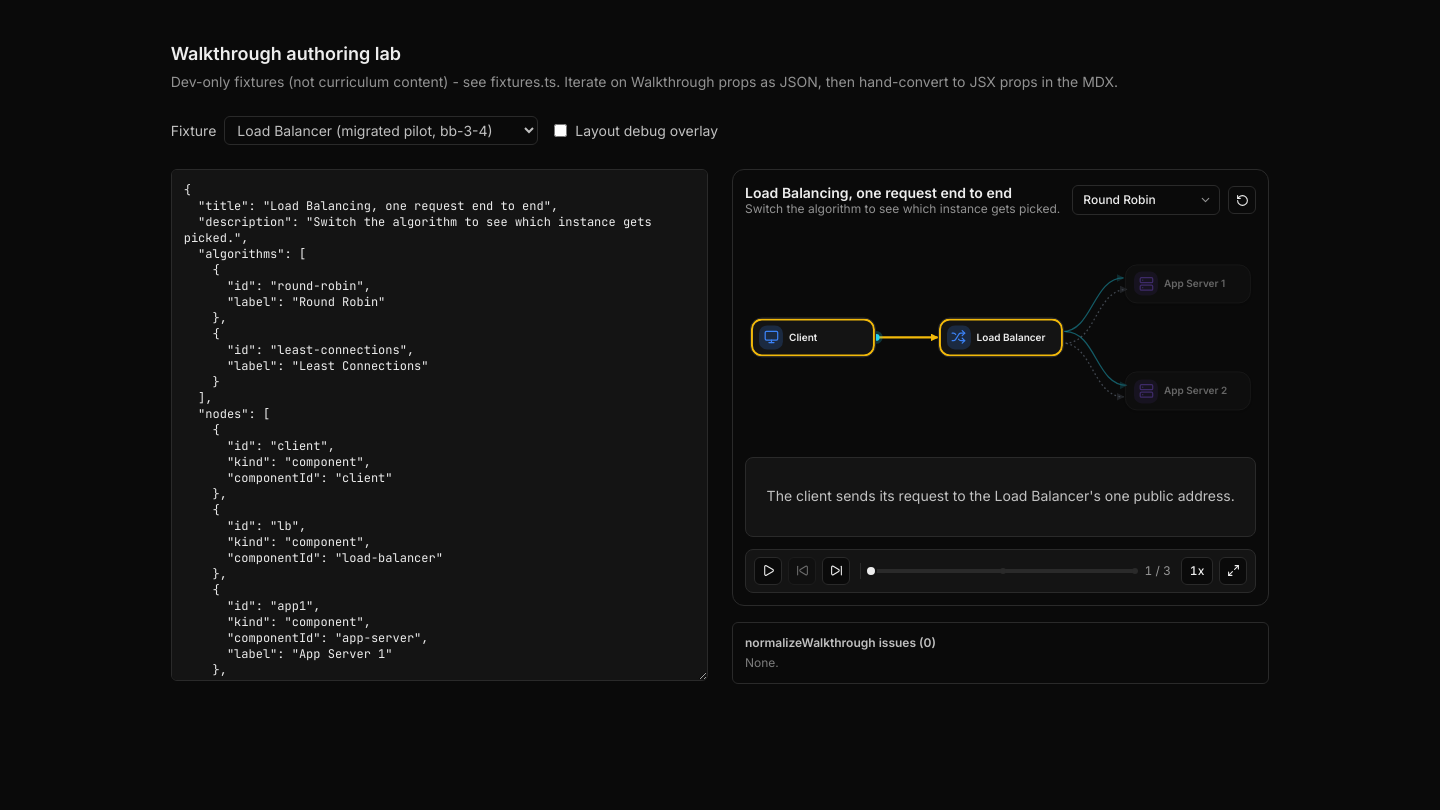
Test: WalkthroughLabContent › the layout debug overlay toggles on
Click the checkbox labelled "Layout debug overlay".
click(561, 130)  # box top-left (554, 124), bottom-right (567, 137)
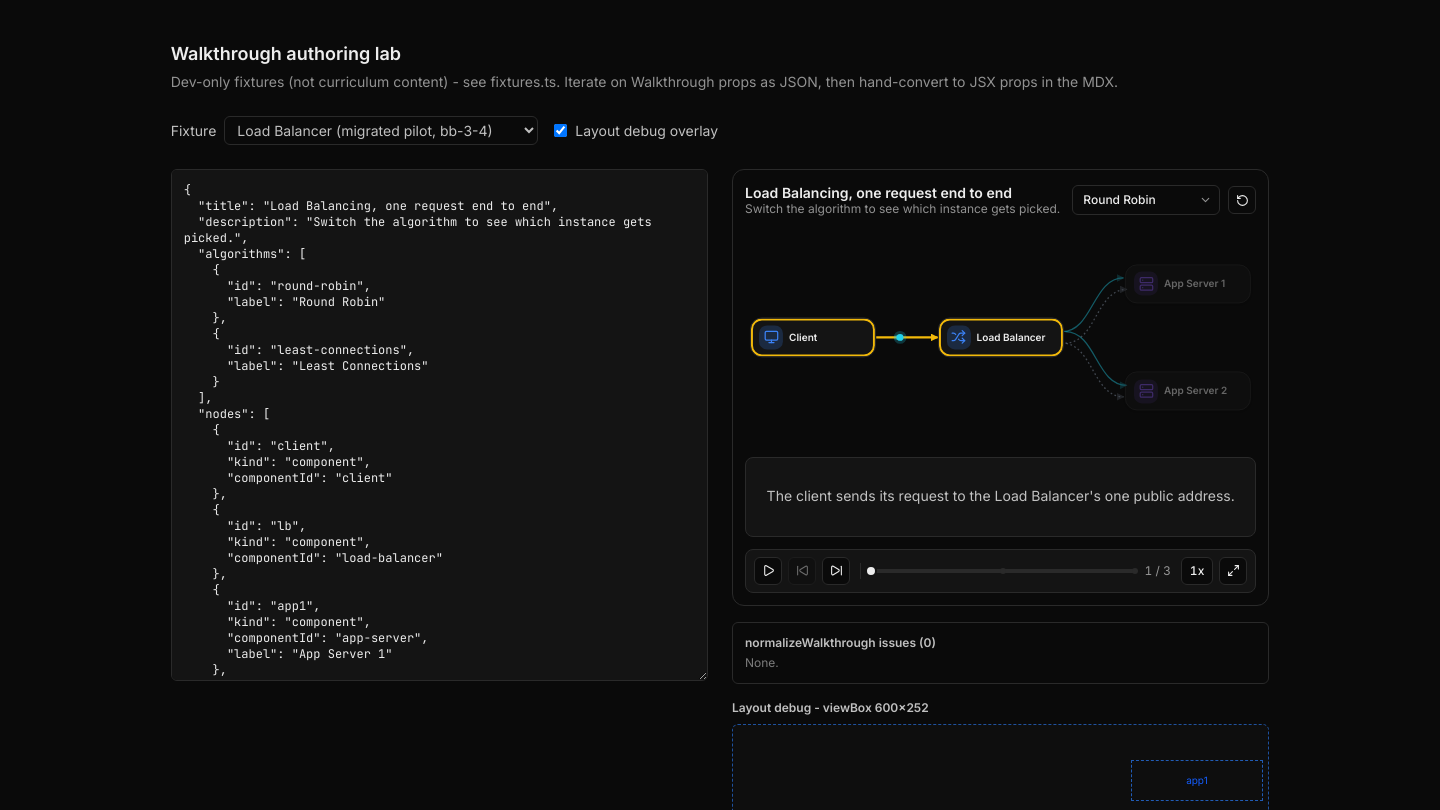
Now the text "Layout debug - viewBox 600x252" is shown, box top-left (732, 700), bottom-right (929, 715)
